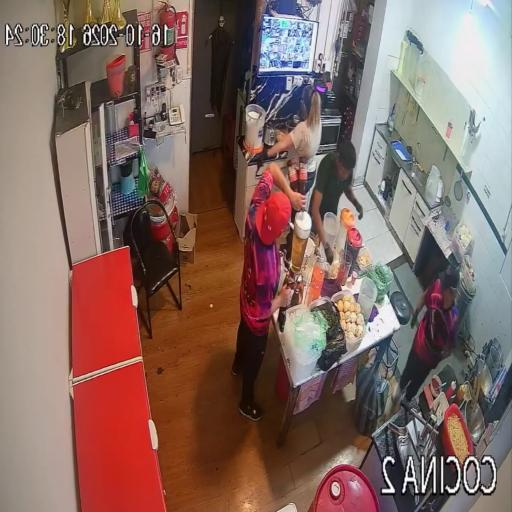Balde: (244, 104, 266, 154)
Cerveza: (288, 156, 308, 195)
Envase Ketchup: (447, 381, 456, 399)
Envase Llajua: (430, 375, 442, 398)
Jarra1: (346, 227, 362, 270)
Jarra2: (335, 208, 355, 252)
Jarra3: (323, 212, 339, 248)
Jarra4: (290, 211, 312, 274), (425, 165, 442, 205)
Jarra5: (358, 277, 377, 321)
Licuadora: (292, 115, 300, 127)
Licuadora2: (264, 122, 275, 146)
Microondas: (319, 109, 342, 151)
Persona1: (232, 163, 306, 421)
Persona2: (266, 85, 322, 196)
Persona3: (310, 141, 363, 243)
Persona5: (399, 266, 459, 401)
Taper: (357, 247, 373, 272)
Taper2: (332, 290, 366, 352)
Taper3: (309, 297, 331, 311)
Taper4: (283, 306, 320, 381)
